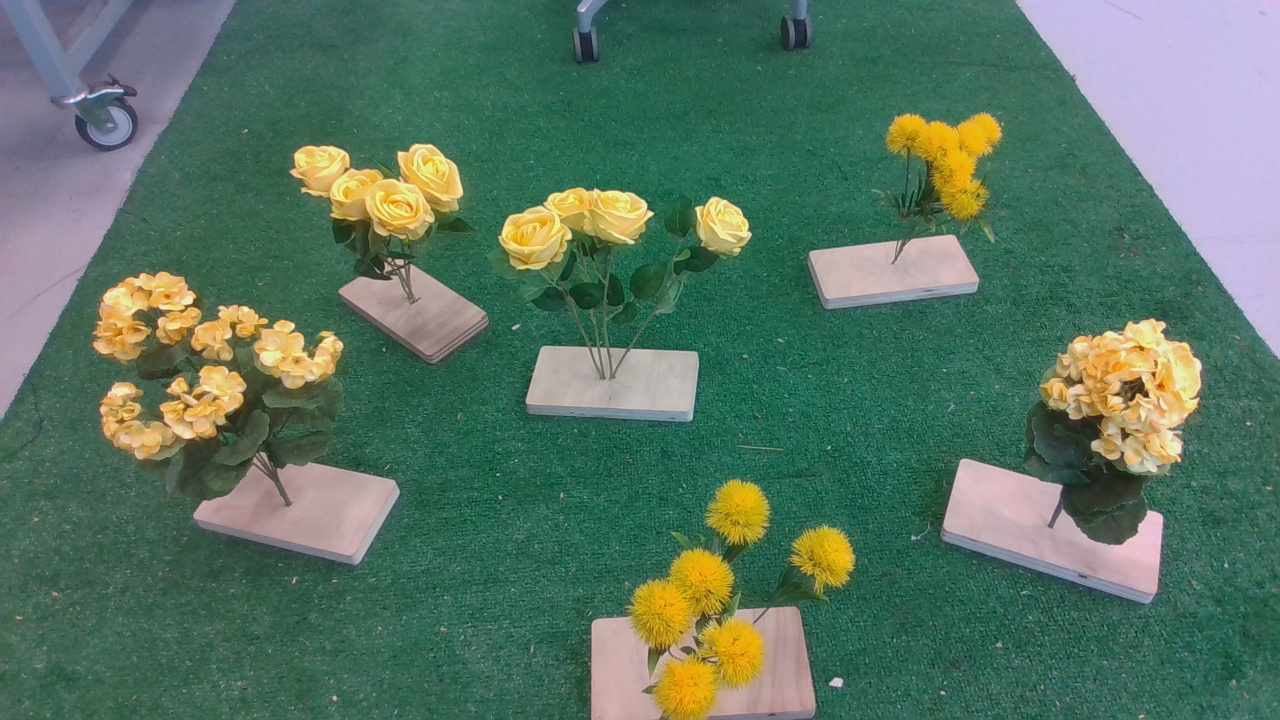dandelion: (627, 478, 868, 720), (278, 128, 485, 262), (875, 97, 1017, 254)
geranium: (84, 267, 350, 507), (1021, 315, 1213, 556)
rose: (497, 188, 763, 345)
